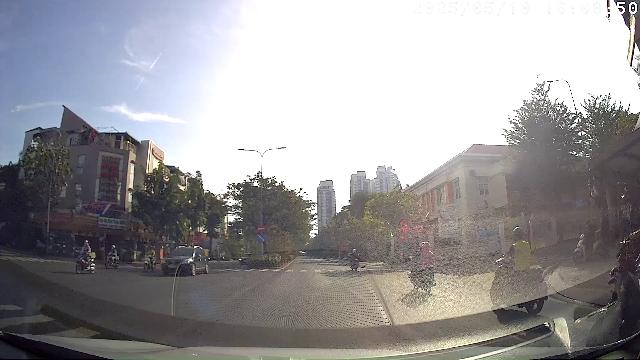102-cam-di-nguoc-chieu: (257, 224, 265, 233)
302a-huong-phai-di-vong-chuong-ngai-vat-1: (258, 234, 266, 242)
